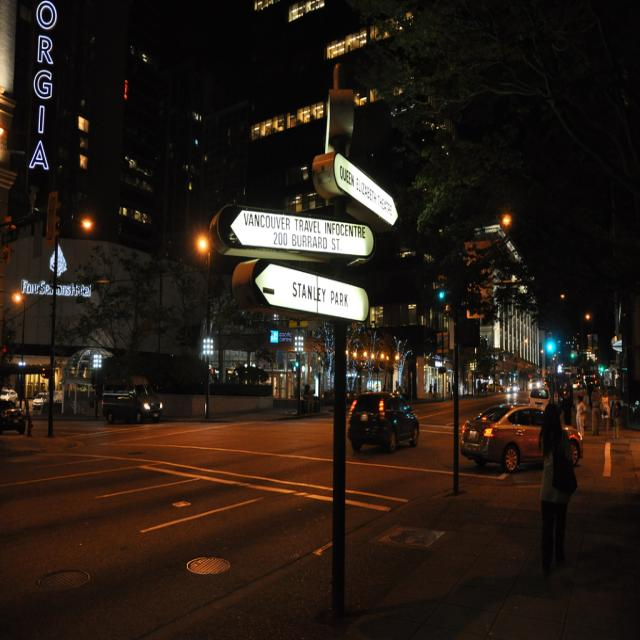car: (347, 395, 418, 445), (98, 387, 163, 424), (529, 382, 550, 403)
